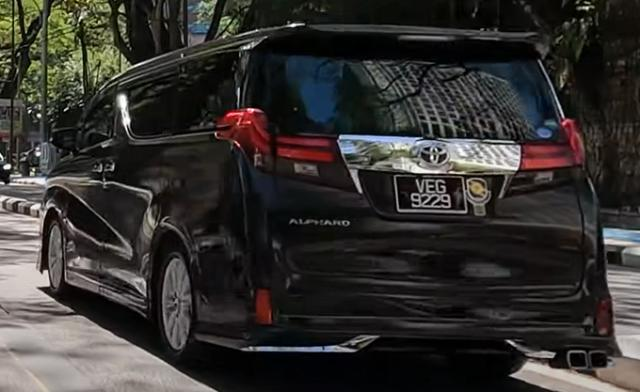License_Plate: (393, 173, 469, 215)
car: (37, 22, 620, 375)
